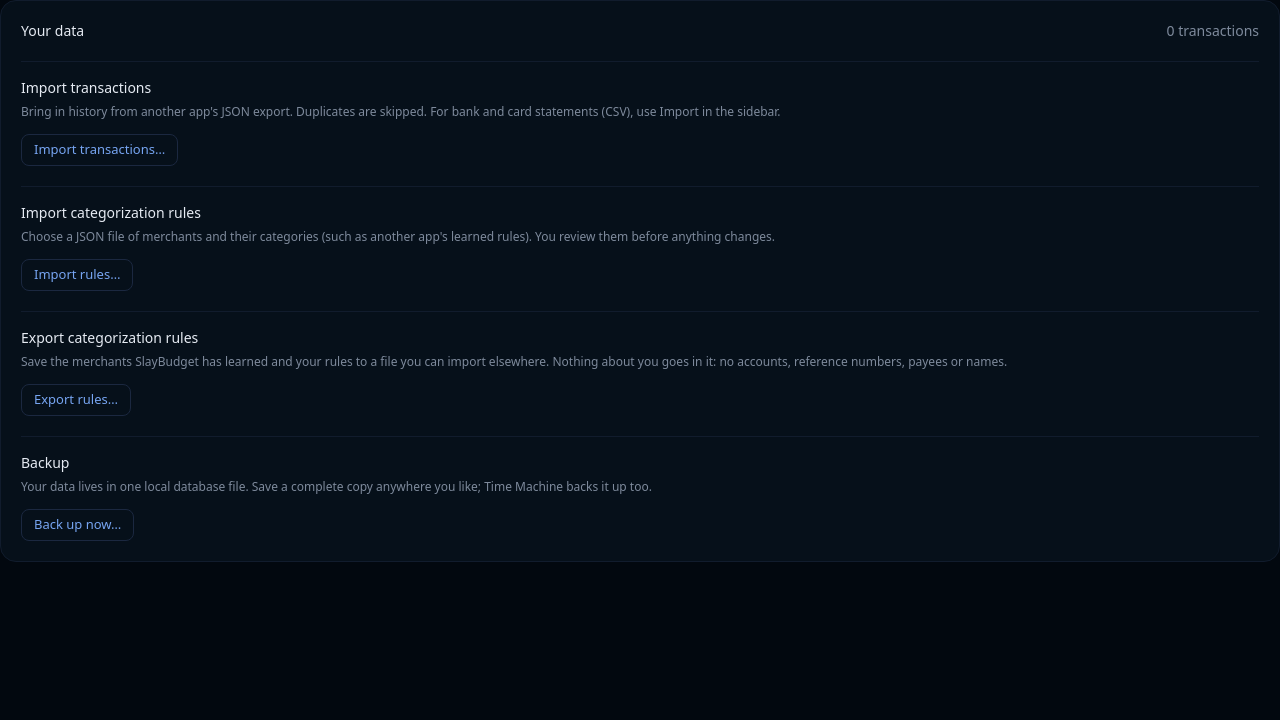
Test: DataPane export rules › exports rules to a file you choose and says what was left out
Click the button "Export rules…". click: (76, 400)
box: [21,384,131,416]
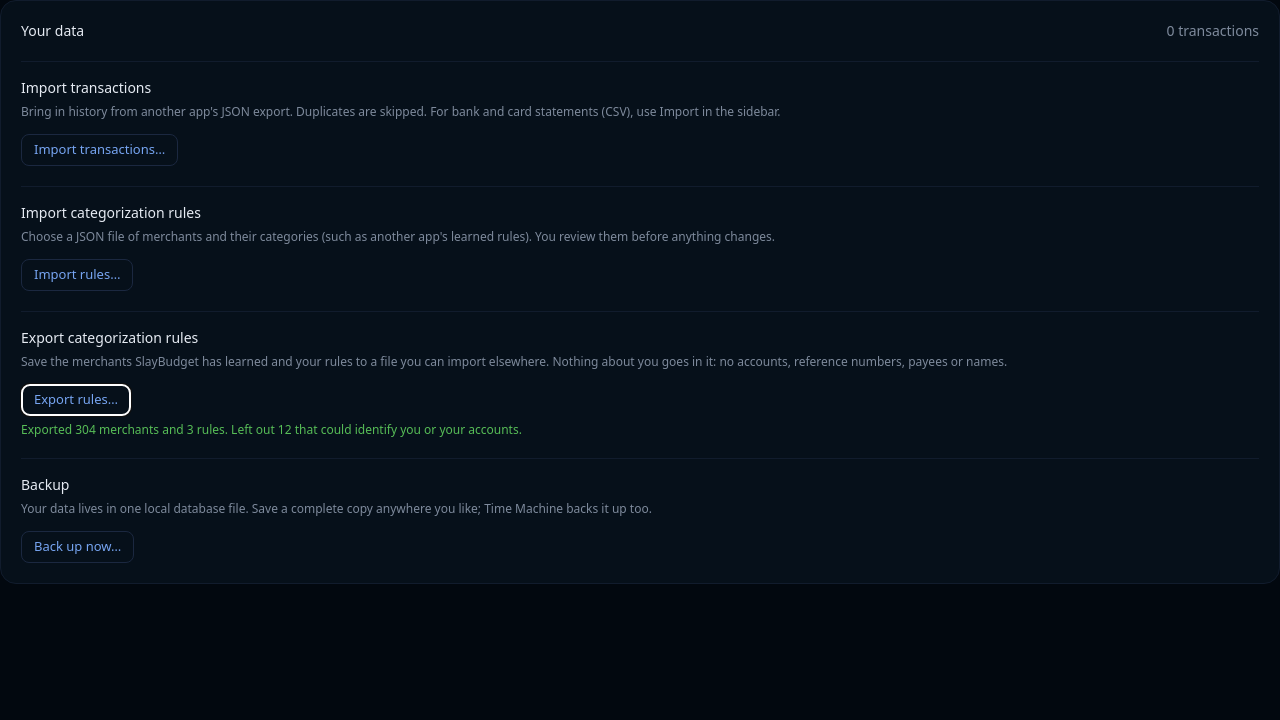
Now the text "Exported 304 merchants and 3 rules. Left out 12 that could identify you or your accounts." is shown, box [21,421,522,438]
